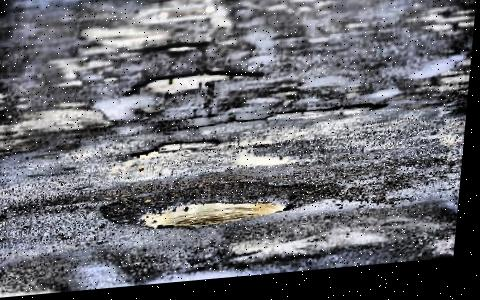pothole: (101, 175, 343, 238), (126, 70, 265, 101), (267, 106, 389, 126), (133, 142, 223, 161), (153, 43, 210, 57)
